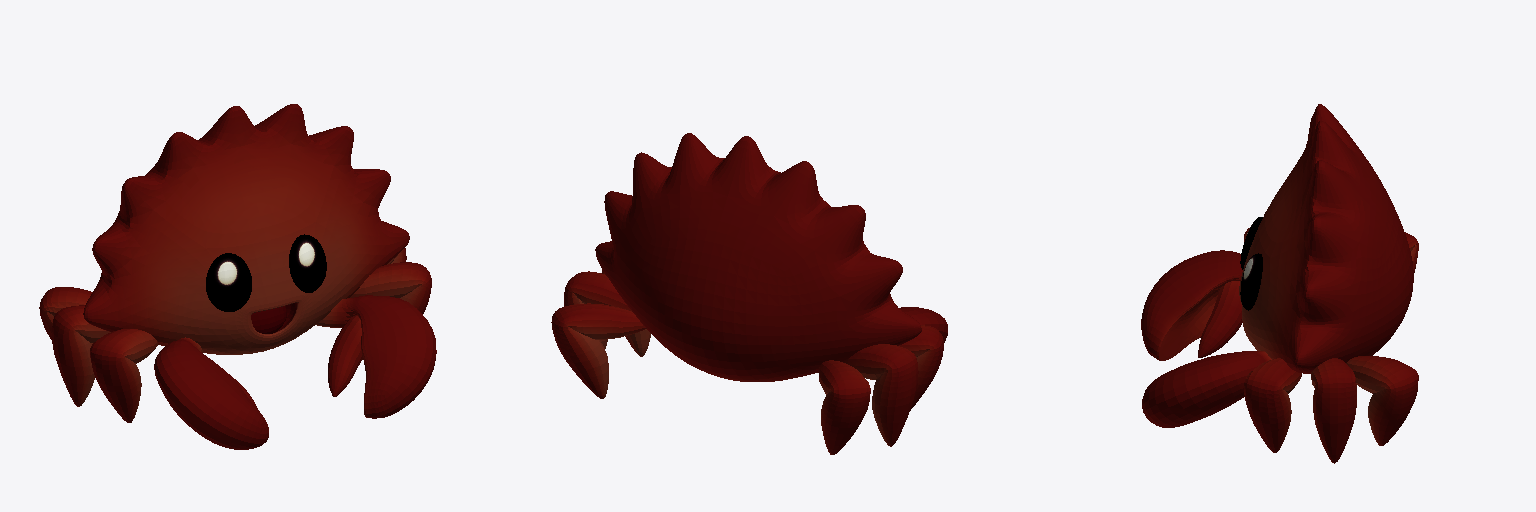
3 views of the same model, side by side, from view 1: azimuth 30°, elevation 25°; view 2: azimuth 150°, elevation 25°; view 3: azimuth 270°, elevation 25° (orthographic).
Visible parts, largest first — view 1: head, armL, armR, eyes, leg0R, leg1R, Leg0L, thumbL, leg2R, tongue; view 2: head, leg2L, leg1R, leg2R, leg1L, leg0R, armR; view 3: head, armR, armL, leg2L, leg1L, Leg0L, thumbR, eyes.
Part boxes in pixels (x1,y1,x2,y2): head: (83, 104, 409, 354); armL: (316, 295, 436, 418); armR: (154, 337, 268, 449); eyes: (206, 234, 326, 311); leg0R: (90, 329, 158, 422); leg1R: (52, 305, 110, 406); Leg0L: (350, 262, 431, 313); thumbL: (328, 316, 362, 396); leg2R: (39, 287, 92, 339); tongue: (251, 306, 286, 333); head: (595, 133, 921, 381); leg2L: (551, 303, 646, 398); leg1R: (844, 344, 918, 446); leg2R: (818, 360, 870, 454); leg1L: (564, 271, 631, 348); leg0R: (899, 325, 943, 410); armR: (900, 307, 947, 342); head: (1239, 104, 1413, 373); armR: (1141, 250, 1242, 360); armL: (1142, 351, 1271, 427); leg2L: (1346, 356, 1418, 445); leg1L: (1311, 358, 1356, 463); Leg0L: (1244, 358, 1301, 452); thumbR: (1198, 281, 1242, 357); eyes: (1240, 217, 1262, 310).
Bounding box in the file's own units: 1.23 × 0.9153 × 0.8566.
1 materials, 1 textured.